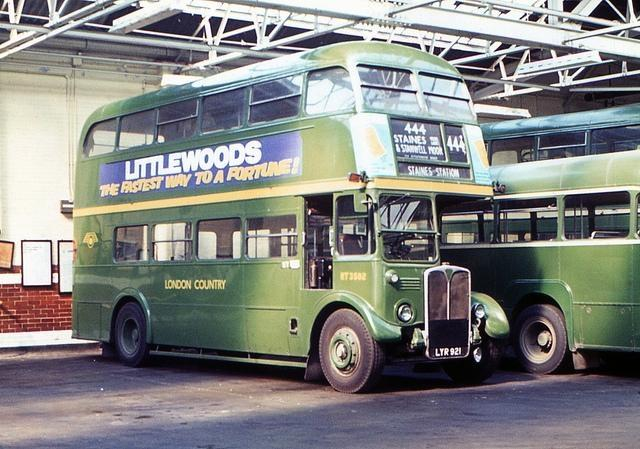bus: (71, 41, 512, 397), (443, 104, 640, 376)
